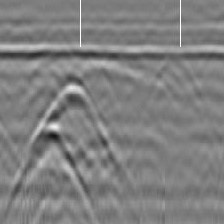Utility: (9, 75, 124, 216)
